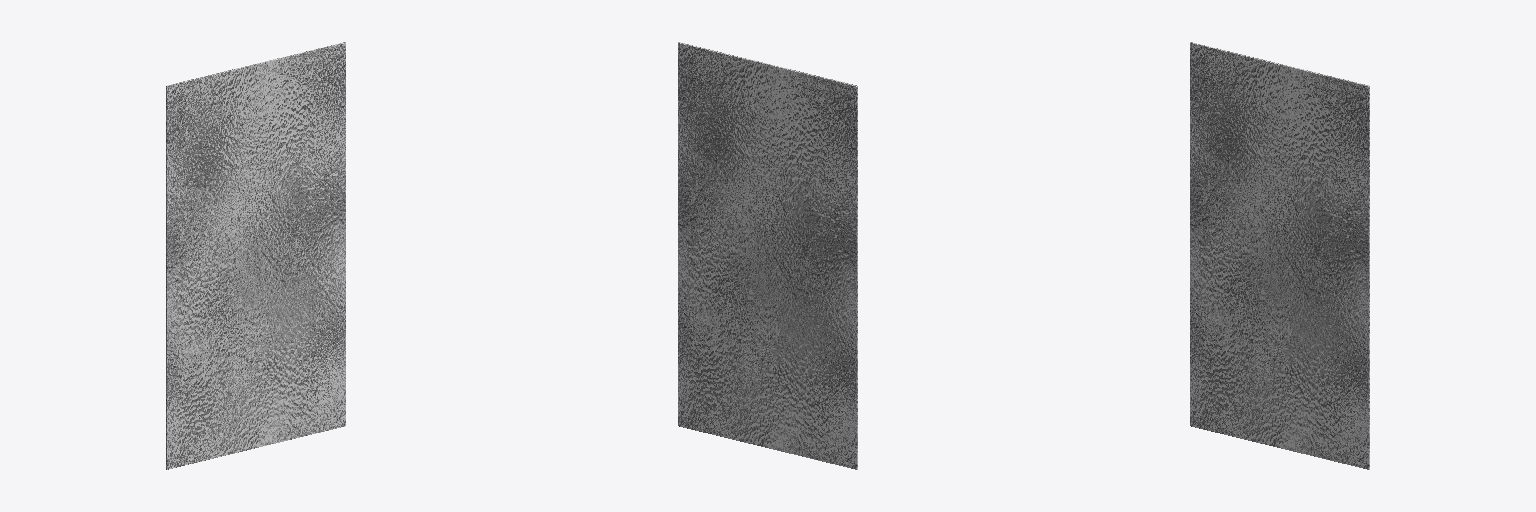
3 renders of one model, left to right at view 1: azimuth 30°, elevation 25°; view 2: azimuth 150°, elevation 25°; view 3: azimuth 330°, elevation 25°, orthographic.
Visible parts, largest first — view 1: glass_door_free_model_gray1:vidrio_de_puerta; view 2: glass_door_free_model_gray1:vidrio_de_puerta; view 3: glass_door_free_model_gray1:vidrio_de_puerta.
Boxes of the visible parts, x1,y1,x2,y2 form: glass_door_free_model_gray1:vidrio_de_puerta: [166, 42, 345, 469]; glass_door_free_model_gray1:vidrio_de_puerta: [678, 42, 857, 469]; glass_door_free_model_gray1:vidrio_de_puerta: [1190, 42, 1369, 469].
Bounding box in the file's own units: 4.48 × 9.15 × 0.0519.
Materials: 1 (1 with a texture image).